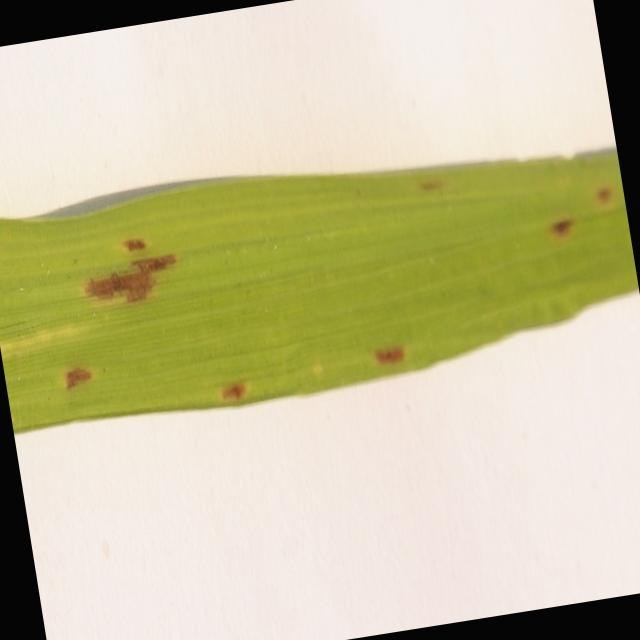leaf_spot: (0, 153, 639, 432)
